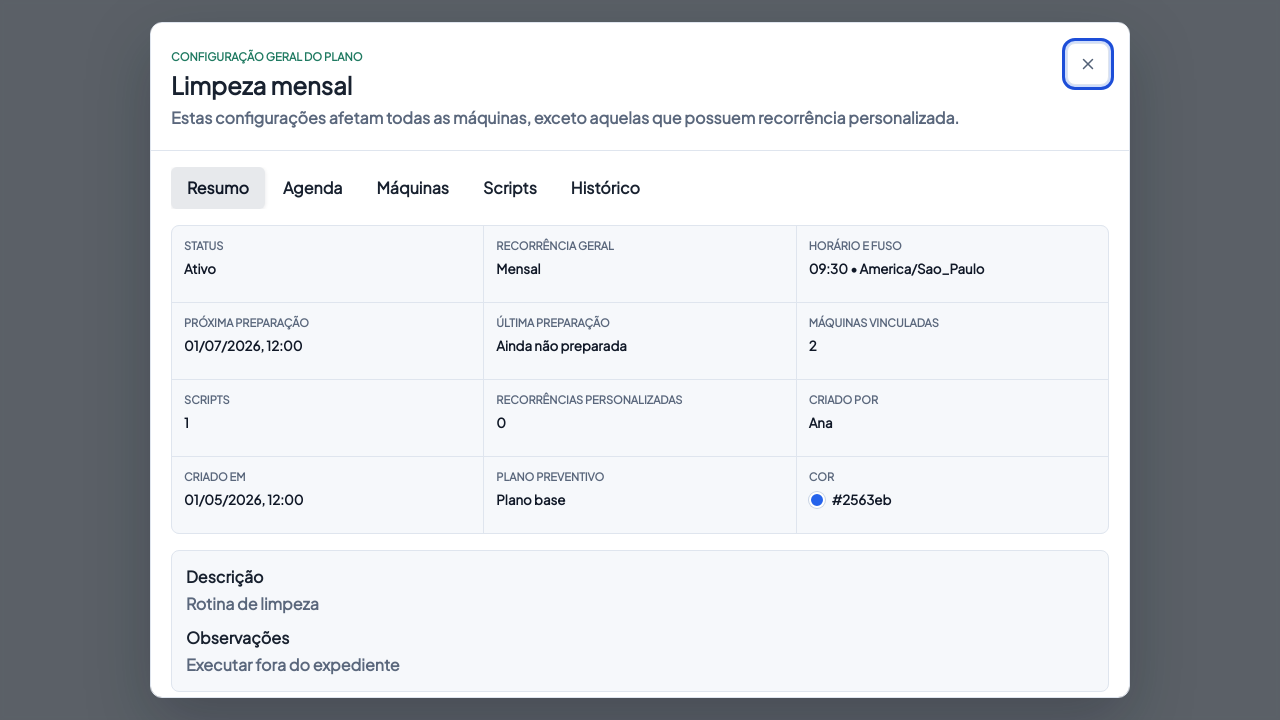
Test: AutomationPlanDetails - abas › indica quando não há agenda ou scripts vinculados
The image size is (1280, 720).
Click the tab "Agenda" at {"x": 313, "y": 188}, box top-left (267, 167), bottom-right (358, 209)
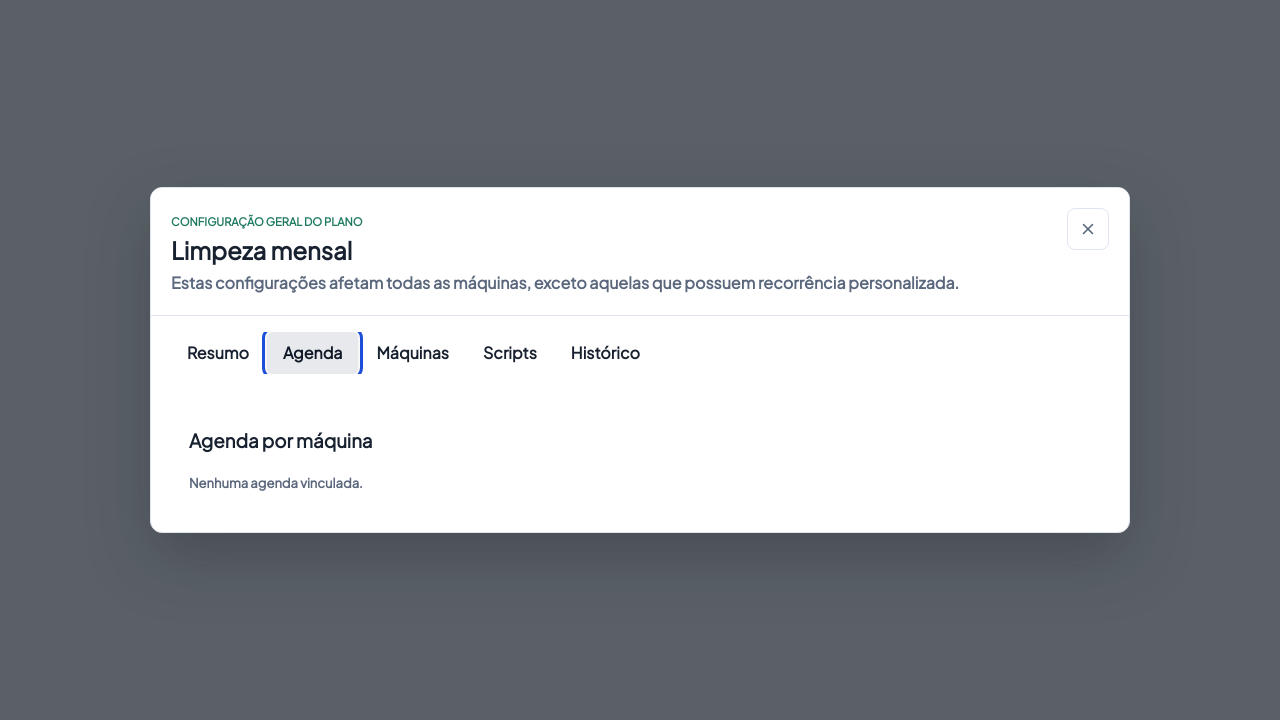
Expected: the text "Nenhuma agenda vinculada." is shown, top-left (189, 475), bottom-right (363, 491)
Click the tab "Scripts" at {"x": 510, "y": 354}, box top-left (467, 332), bottom-right (553, 374)
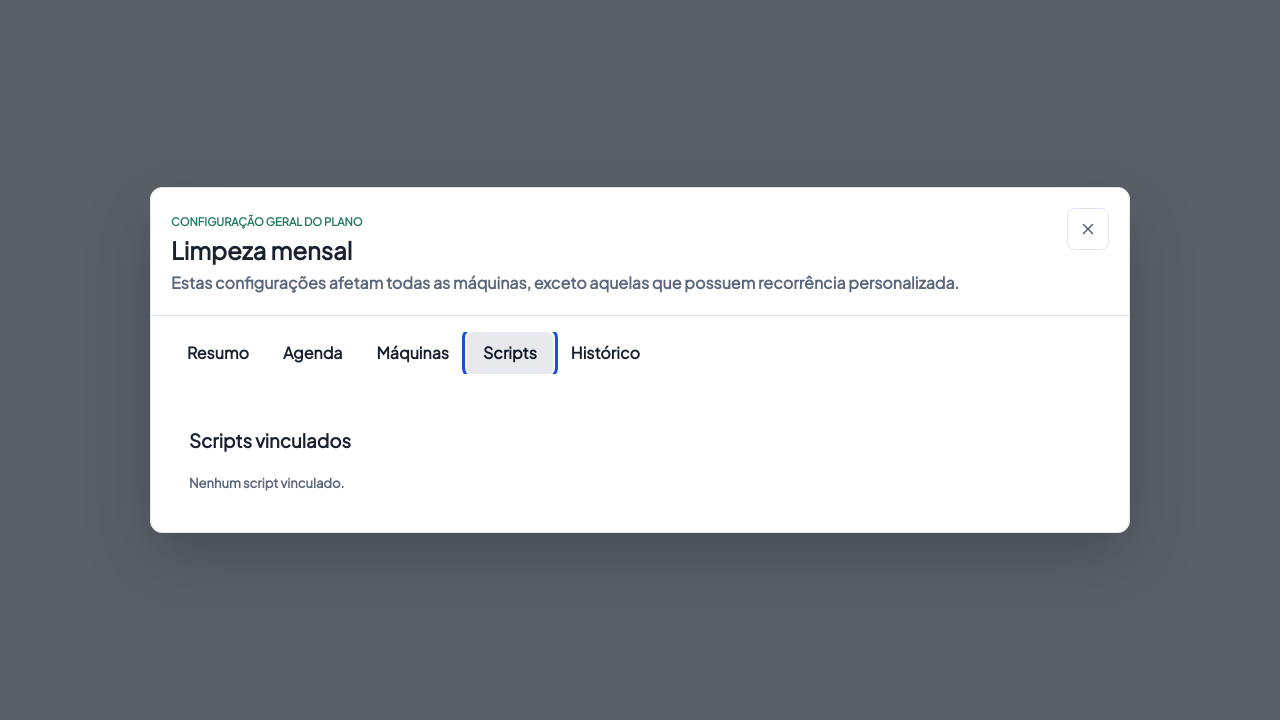
Expected: the text "Nenhum script vinculado." is shown, top-left (189, 475), bottom-right (344, 491)
